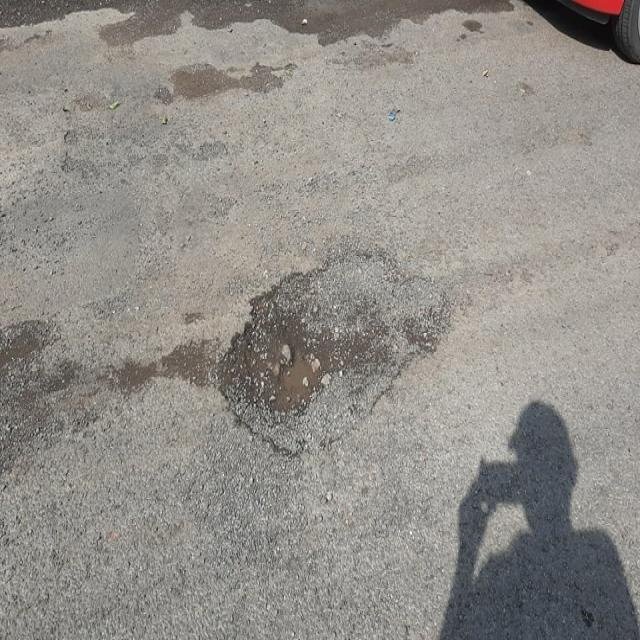Pothole: (212, 220, 494, 488)
